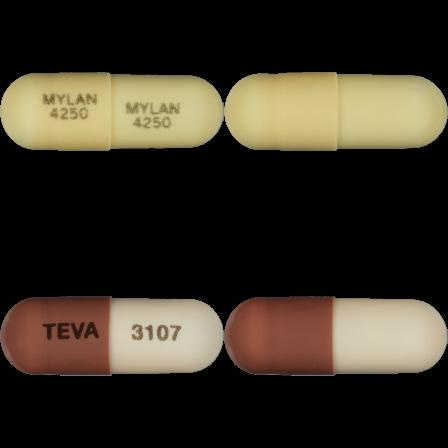55289-018: (0, 0, 224, 224)
